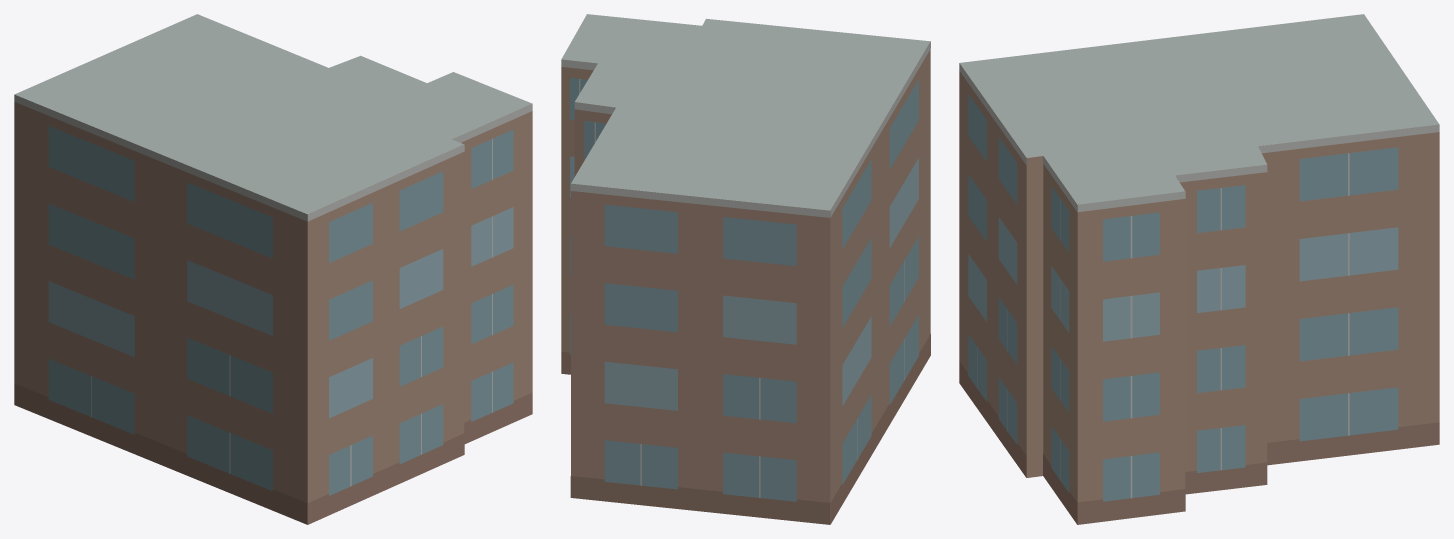
File: survey-upis-32614467.glb
The picture shows the model from 3 angles, left to right: view 1: azimuth 30°, elevation 25°; view 2: azimuth 150°, elevation 25°; view 3: azimuth 270°, elevation 25°; orthographic projection. The views are drawn at different scales.
Visible parts, largest first — view 1: survey-upis-32614467.tmp; view 2: survey-upis-32614467.tmp; view 3: survey-upis-32614467.tmp.
Boxes of the visible parts, x1=… form: survey-upis-32614467.tmp: x1=14, y1=14, x2=532, y2=524; survey-upis-32614467.tmp: x1=561, y1=14, x2=930, y2=524; survey-upis-32614467.tmp: x1=959, y1=14, x2=1439, y2=524.
Size of the model in its own units: 13.44 by 10.5 by 14.29.
